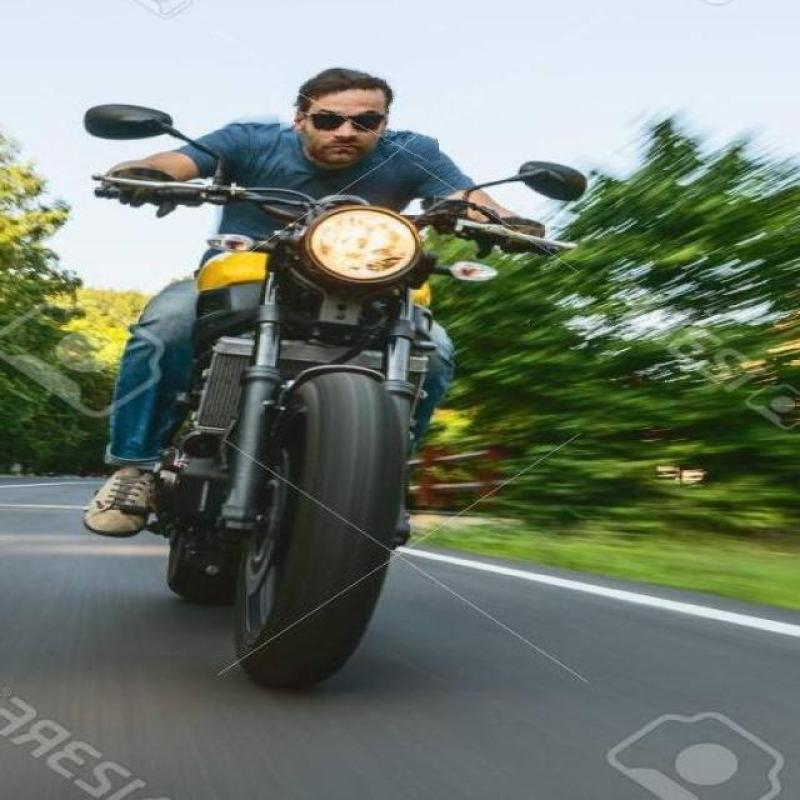nohelmet: (277, 65, 438, 173)
